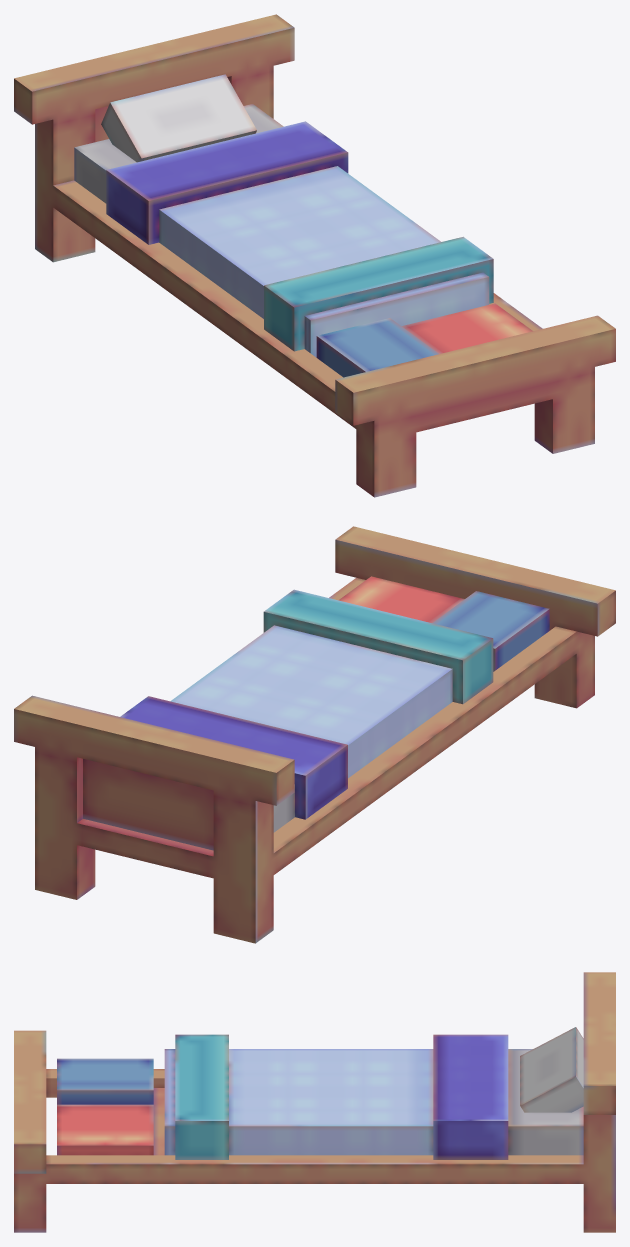
File: Bed.obj
The picture shows the model from 3 angles, top to bottom: view 1: azimuth 30°, elevation 25°; view 2: azimuth 150°, elevation 25°; view 3: azimuth 270°, elevation 25°; orthographic projection. The views are drawn at different scales.
Visible parts, largest first — view 1: Bedframe, Mattress, Pillow, Clothes; view 2: Bedframe, Mattress, Clothes; view 3: Mattress, Bedframe, Clothes, Pillow.
Boxes of the visible parts, x1=… form: Bedframe: x1=14, y1=14, x2=615, y2=497; Mattress: x1=74, y1=104, x2=493, y2=357; Pillow: x1=101, y1=74, x2=256, y2=162; Clothes: x1=316, y1=303, x2=532, y2=377; Bedframe: x1=14, y1=526, x2=615, y2=943; Mattress: x1=120, y1=589, x2=493, y2=832; Clothes: x1=338, y1=576, x2=549, y2=671; Mattress: x1=164, y1=1034, x2=583, y2=1159; Bedframe: x1=14, y1=972, x2=615, y2=1232; Clothes: x1=57, y1=1058, x2=153, y2=1155; Pillow: x1=520, y1=1027, x2=583, y2=1112.
Bounding box in the file's own units: 2.5 × 1.6 × 5.6.
Materials: 4 (4 with a texture image).
